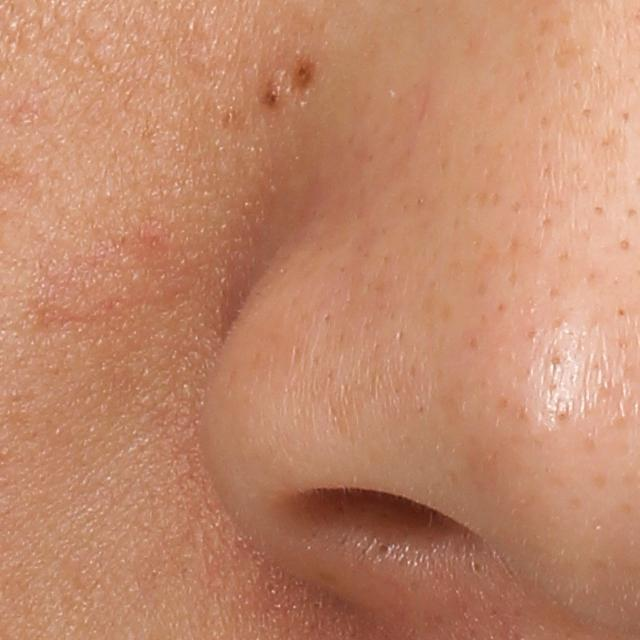nevus: (255, 77, 289, 116), (289, 51, 318, 94)
